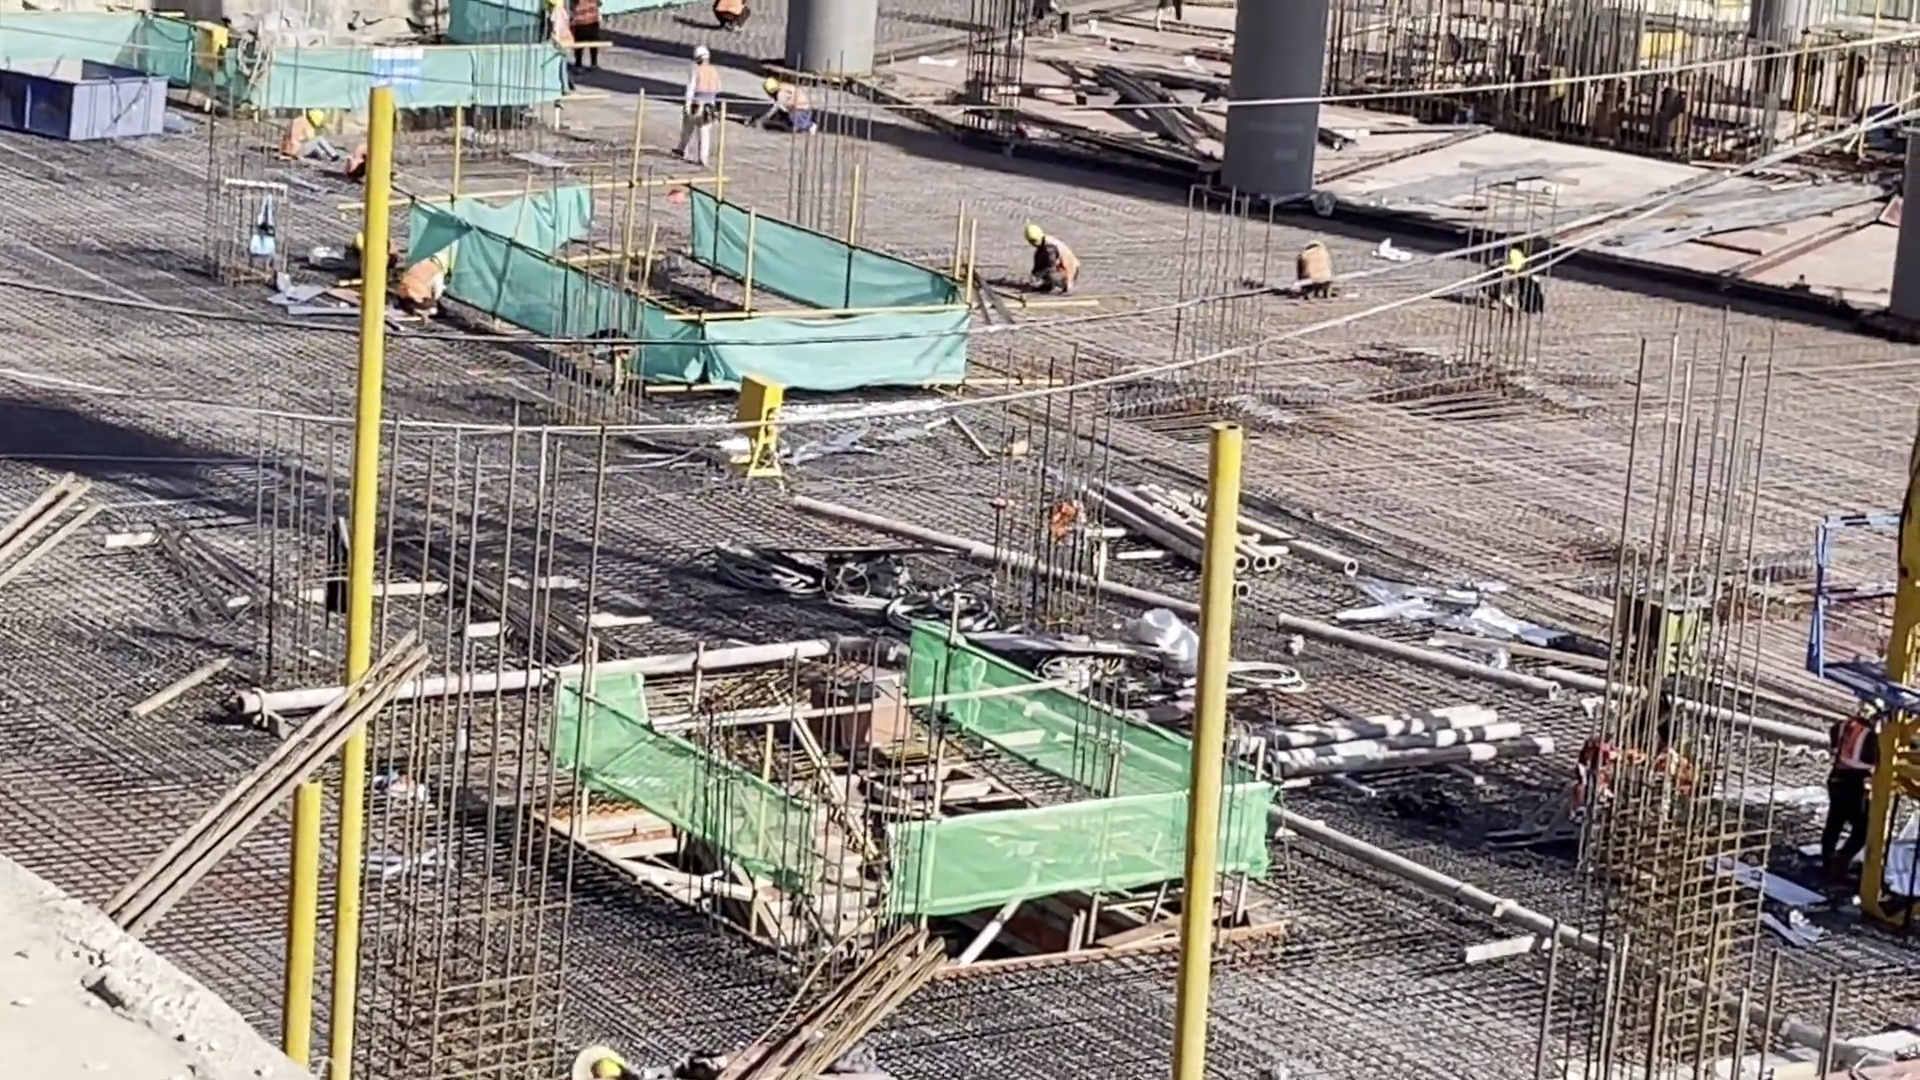ebox: (733, 372, 788, 477), (192, 22, 228, 76)
helmet: (688, 42, 711, 62), (1505, 250, 1523, 271), (432, 251, 449, 273), (308, 108, 324, 129), (1025, 225, 1044, 241), (765, 76, 775, 92)
hopper: (1, 57, 169, 145)
person: (1824, 692, 1875, 880), (678, 43, 716, 165), (1027, 227, 1082, 297), (559, 1, 608, 73), (402, 250, 451, 318), (759, 79, 813, 138), (1294, 241, 1340, 304), (283, 112, 333, 165)
slogan: (365, 51, 429, 96)
vest: (1839, 716, 1874, 770), (405, 261, 442, 306), (1296, 247, 1333, 287), (1048, 247, 1077, 288), (288, 114, 312, 154), (694, 65, 713, 107), (719, 1, 746, 18)
